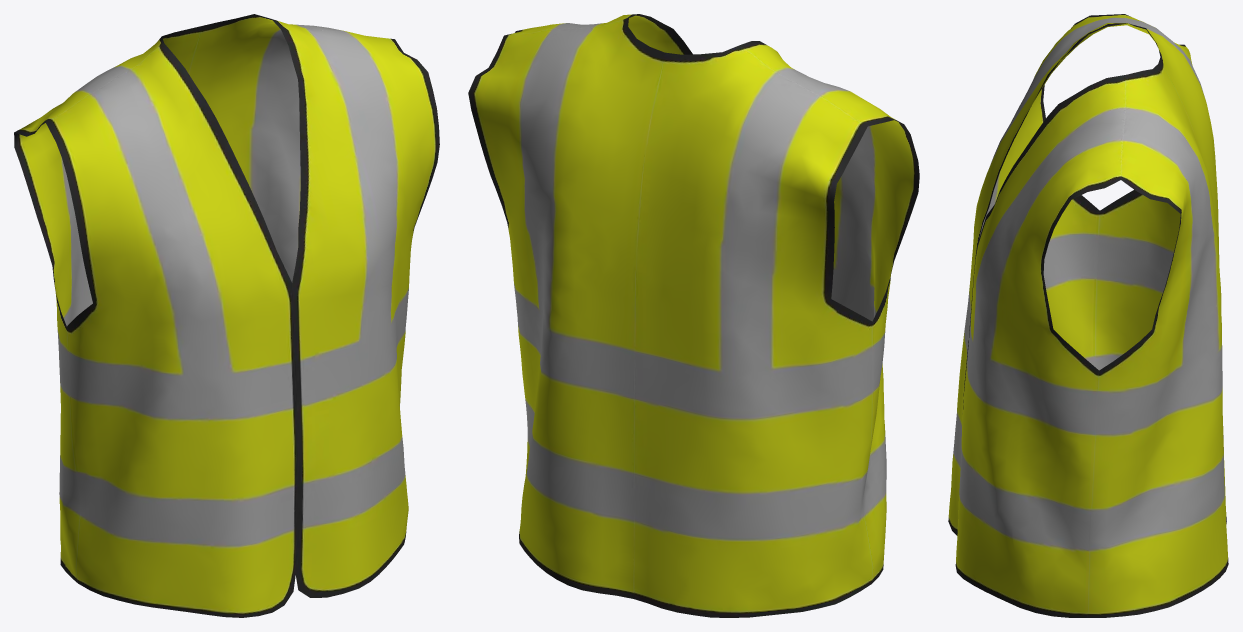
Rendered from opt-high_visibilty_vest_1.glb.
3 views of the same model, side by side, from view 1: azimuth 30°, elevation 25°; view 2: azimuth 150°, elevation 25°; view 3: azimuth 270°, elevation 25° (orthographic). The views are drawn at different scales.
Parts seen in each view (by area): view 1: Object_4; view 2: Object_4; view 3: Object_4.
Part boxes in pixels (bbox=[...]): Object_4: bbox=[14, 14, 439, 617]; Object_4: bbox=[468, 14, 919, 617]; Object_4: bbox=[948, 14, 1228, 617].
Bounding box in the file's own units: 4.66 × 6.22 × 3.16.
Materials: 1 (1 with a texture image).
